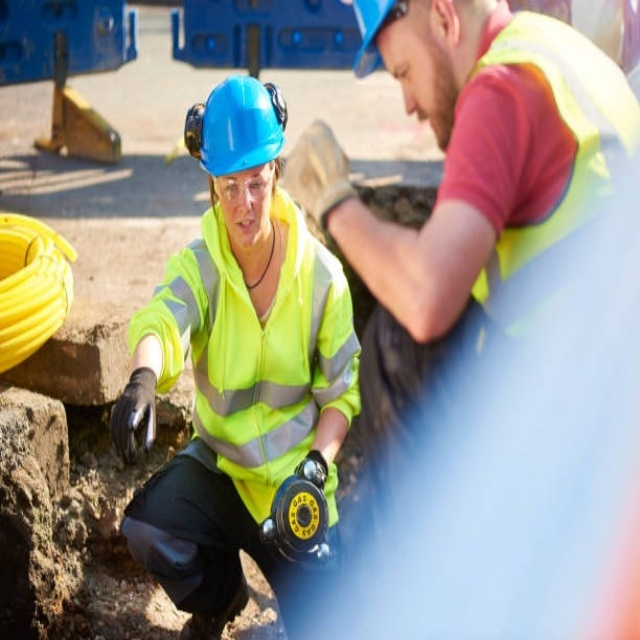Gafas: (212, 162, 276, 202)
Guantes: (281, 118, 356, 221), (111, 372, 164, 467)
Sin_gafas: (387, 17, 425, 89)
Sin_mascara: (408, 104, 448, 146), (232, 213, 258, 245)
